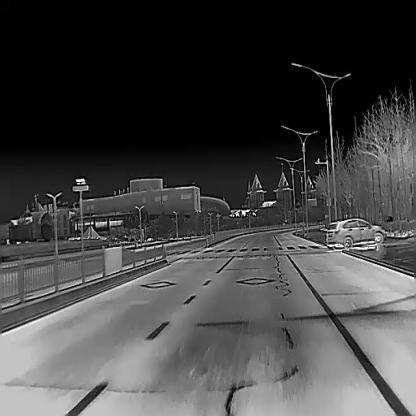car: (326, 216, 385, 249)
